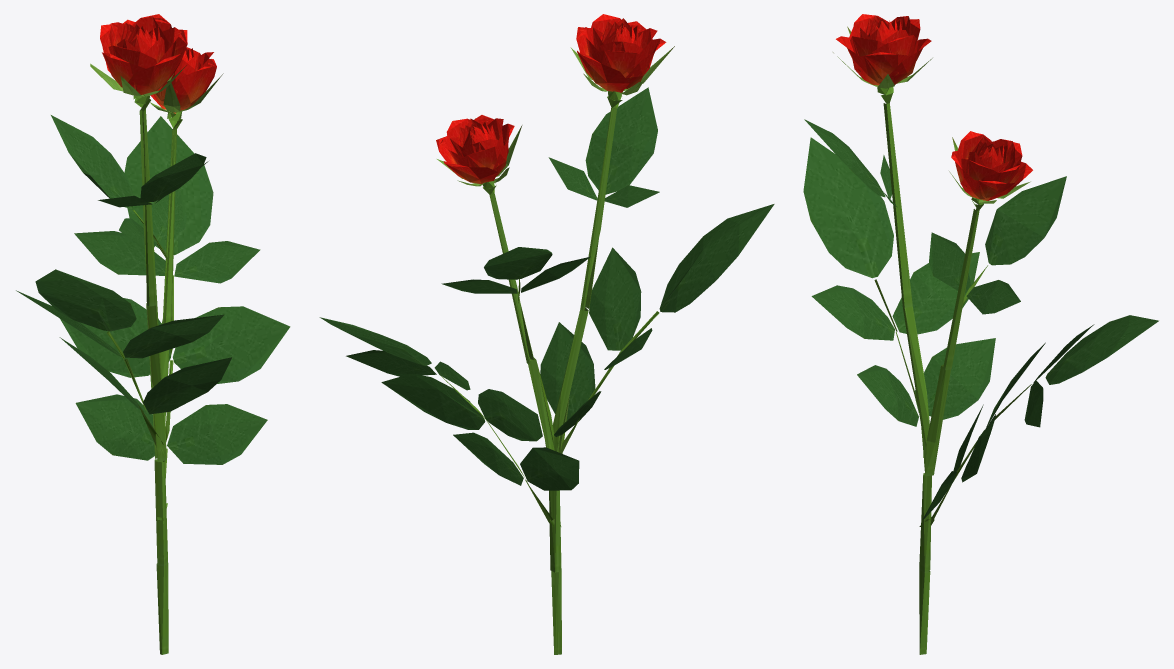
The model's file is google poly.obj.
3 renders of one model, left to right at view 1: azimuth 30°, elevation 25°; view 2: azimuth 150°, elevation 25°; view 3: azimuth 270°, elevation 25°, orthographic. The views are drawn at different scales.
Visible parts, largest first — view 1: object, Object001, Object002; view 2: object, Object001, Object002; view 3: object, Object001, Object002.
Part boxes in pixels (x1,y1,x2,y2): object: [16, 115, 290, 654]; Object001: [90, 14, 187, 306]; Object002: [150, 47, 223, 323]; object: [319, 87, 774, 654]; Object001: [570, 14, 674, 310]; Object002: [436, 115, 534, 363]; object: [803, 119, 1158, 654]; Object001: [833, 14, 932, 307]; Object002: [943, 131, 1032, 370].
Bounding box in the file's own units: 478 × 911 × 480.
1 material, 1 textured.
